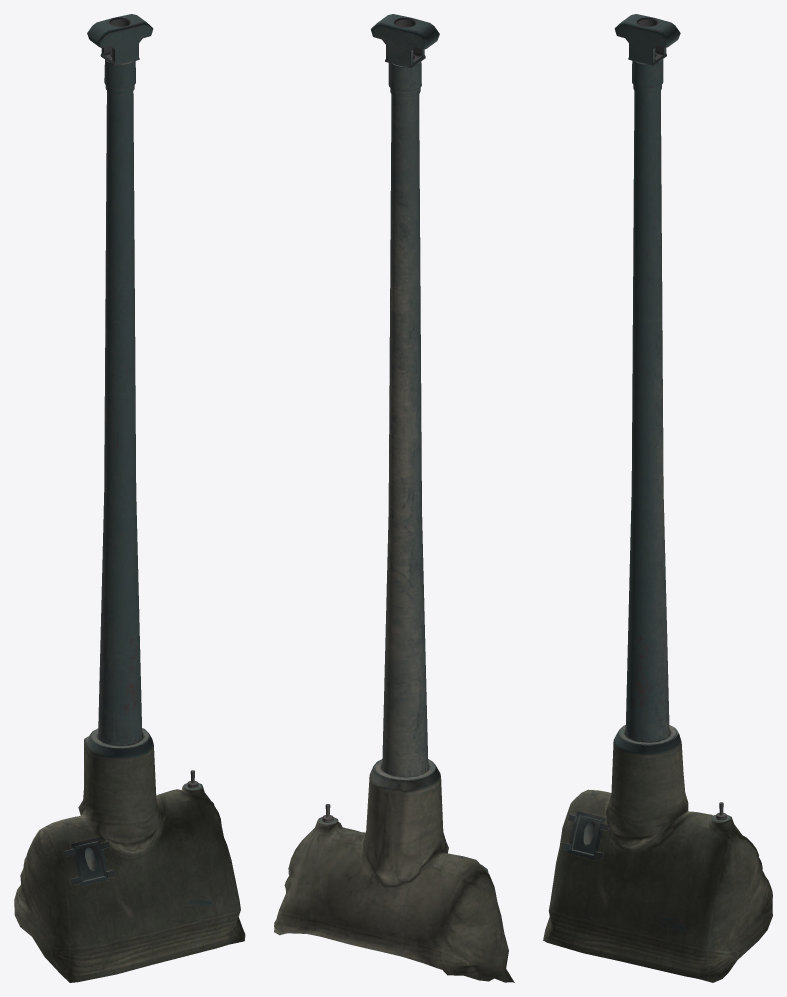
File: Gun_04.glb
The picture shows the model from 3 angles, left to right: view 1: azimuth 30°, elevation 25°; view 2: azimuth 150°, elevation 25°; view 3: azimuth 330°, elevation 25°; orthographic projection. The views are drawn at different scales.
Parts seen in each view (by area): view 1: set_0_group_0; view 2: set_0_group_0; view 3: set_0_group_0.
Boxes of the visible parts, <box> form: set_0_group_0: <box>14,14,245,982</box>; set_0_group_0: <box>274,14,514,982</box>; set_0_group_0: <box>543,14,772,982</box>.
Bounding box in the file's own units: 1.67 × 7.35 × 0.9539.
1 material, 1 textured.
